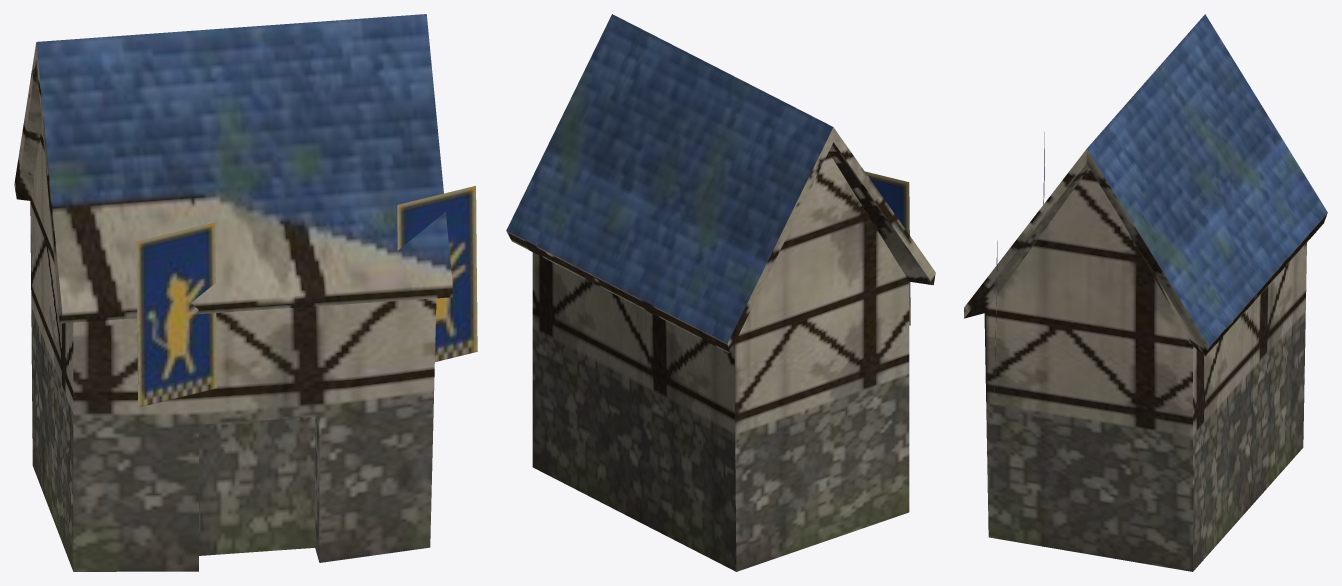
The model's file is house_03_card_lod2.glb.
The picture shows the model from 3 angles, left to right: view 1: azimuth 30°, elevation 25°; view 2: azimuth 150°, elevation 25°; view 3: azimuth 270°, elevation 25°; orthographic projection. The views are drawn at different scales.
Parts seen in each view (by area): view 1: house_03_game_card; view 2: house_03_game_card; view 3: house_03_game_card.
Part boxes in pixels (<box>): house_03_game_card: <box>14,14,477,571</box>; house_03_game_card: <box>506,14,935,571</box>; house_03_game_card: <box>964,14,1327,571</box>.
Size of the model in its own units: 7.4 by 8.13 by 6.52.
Materials: 1 (1 with a texture image).
